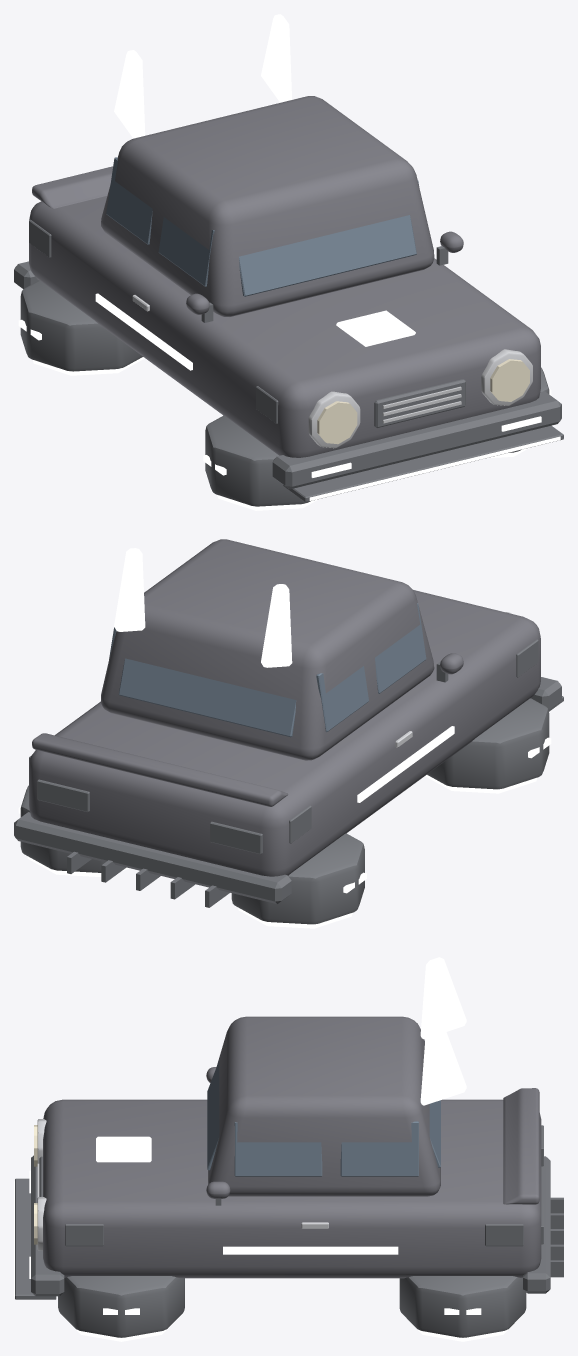
Rendered from void_racer.fbx.
The picture shows the model from 3 angles, top to bottom: view 1: azimuth 30°, elevation 25°; view 2: azimuth 150°, elevation 25°; view 3: azimuth 270°, elevation 25°; orthographic projection. The views are drawn at different scales.
Parts seen in each view (by area): view 1: Body, Trim, Glass, Light, Metal, Accent; view 2: Body, Trim, Glass, Light; view 3: Body, Trim, Light, Glass, Metal.
Part boxes in pixels (bbox=[...]): Body: bbox=[29, 96, 540, 457]; Trim: bbox=[14, 219, 563, 506]; Glass: bbox=[106, 157, 419, 296]; Light: bbox=[18, 14, 560, 510]; Metal: bbox=[132, 295, 532, 448]; Accent: bbox=[317, 359, 529, 444]; Body: bbox=[29, 539, 540, 876]; Trim: bbox=[14, 639, 563, 924]; Glass: bbox=[109, 603, 426, 737]; Light: bbox=[18, 548, 551, 928]; Body: bbox=[43, 1016, 541, 1278]; Trim: bbox=[15, 1125, 563, 1337]; Light: bbox=[14, 957, 519, 1341]; Glass: bbox=[207, 1060, 440, 1176]; Metal: bbox=[37, 1119, 328, 1250].
Size of the model in its own units: 3.81 by 3.34 by 5.96.
